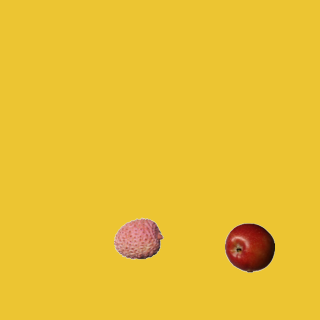Apple Braeburn: (224, 222, 274, 272)
Lychee: (113, 213, 163, 263)
